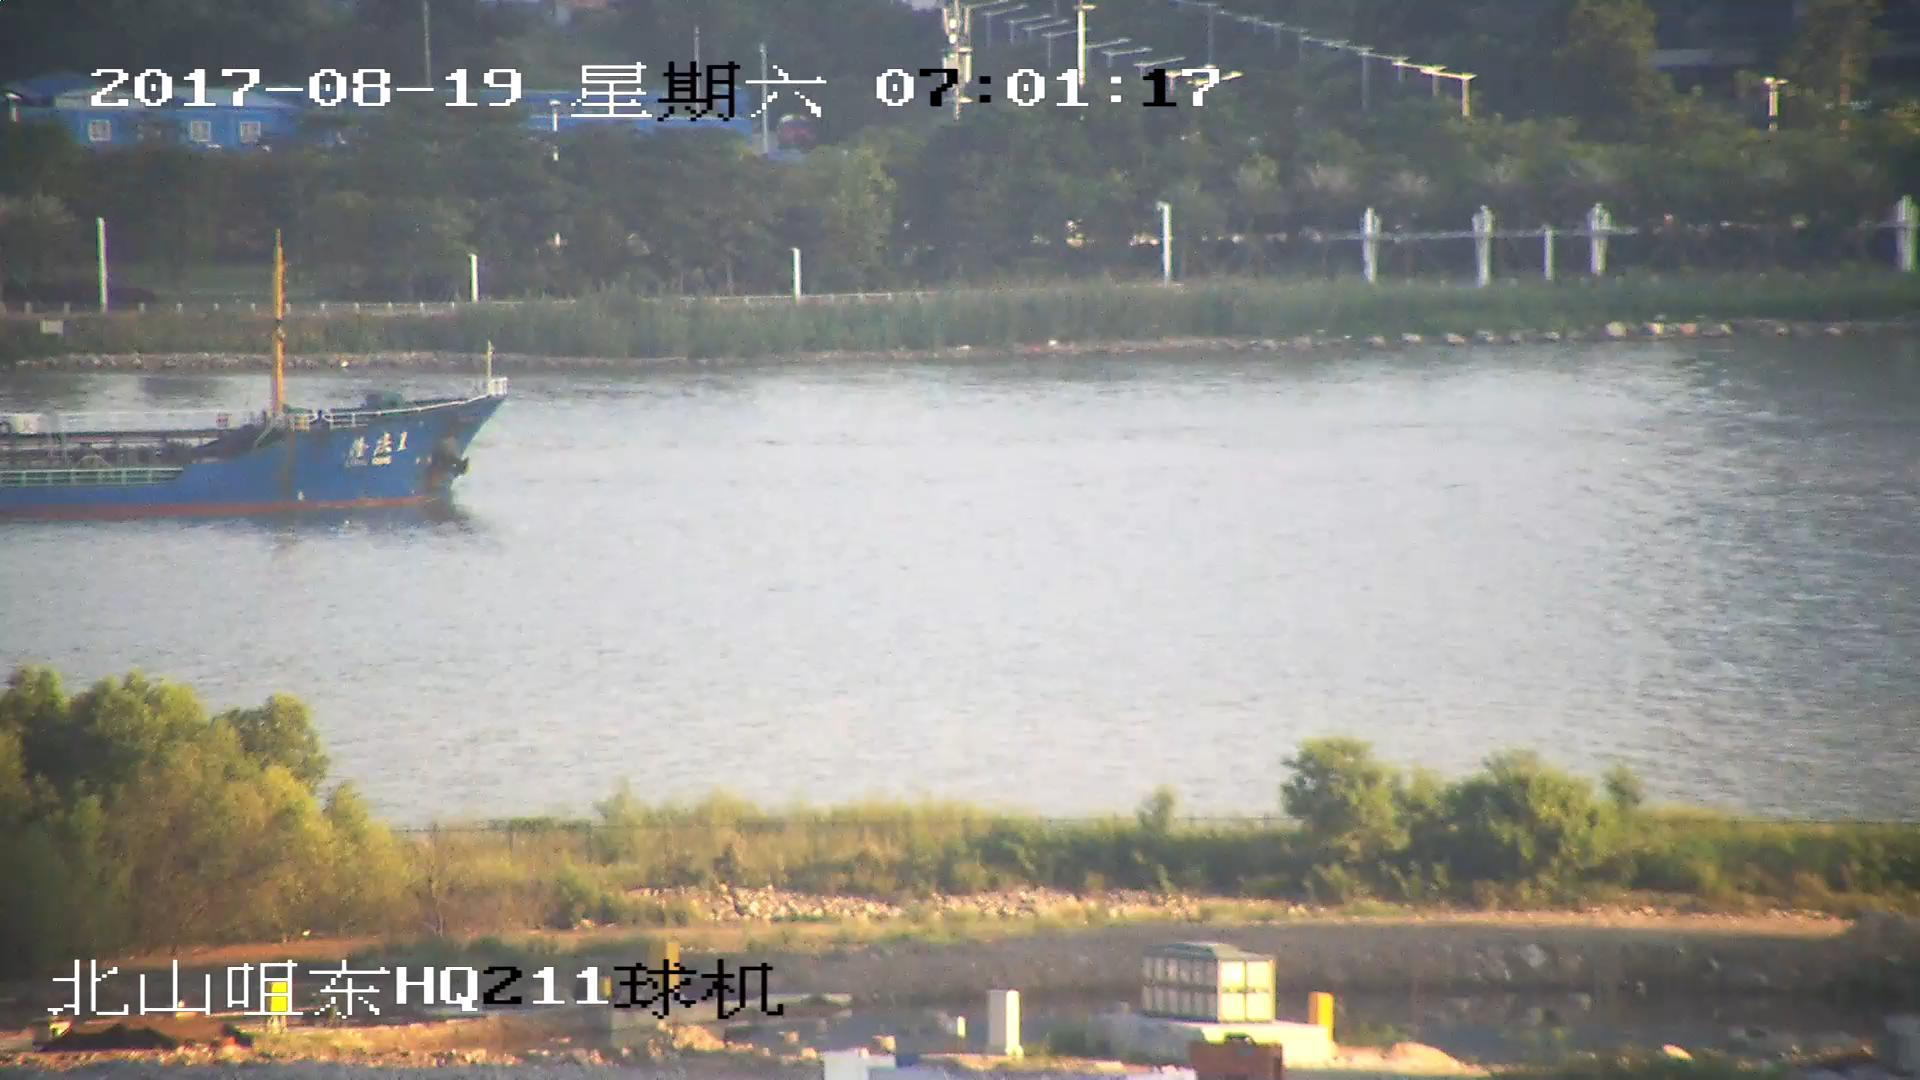Ship: (3, 233, 491, 527)
